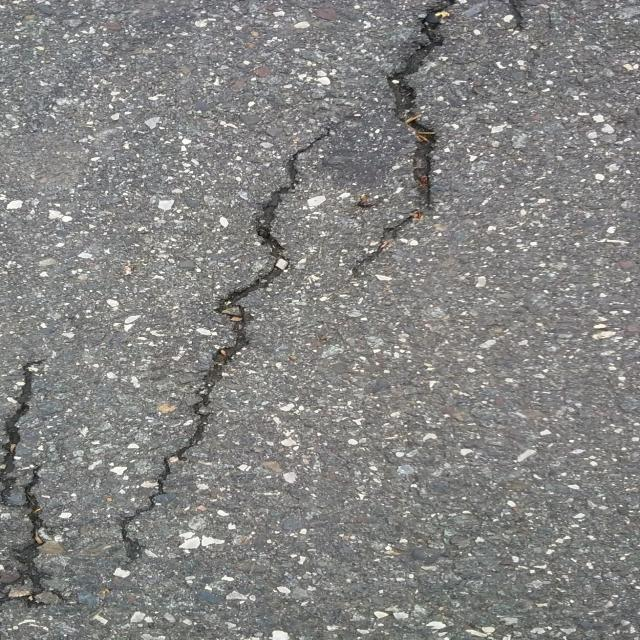Crack: (119, 129, 333, 559), (352, 0, 464, 278), (0, 360, 66, 607)
